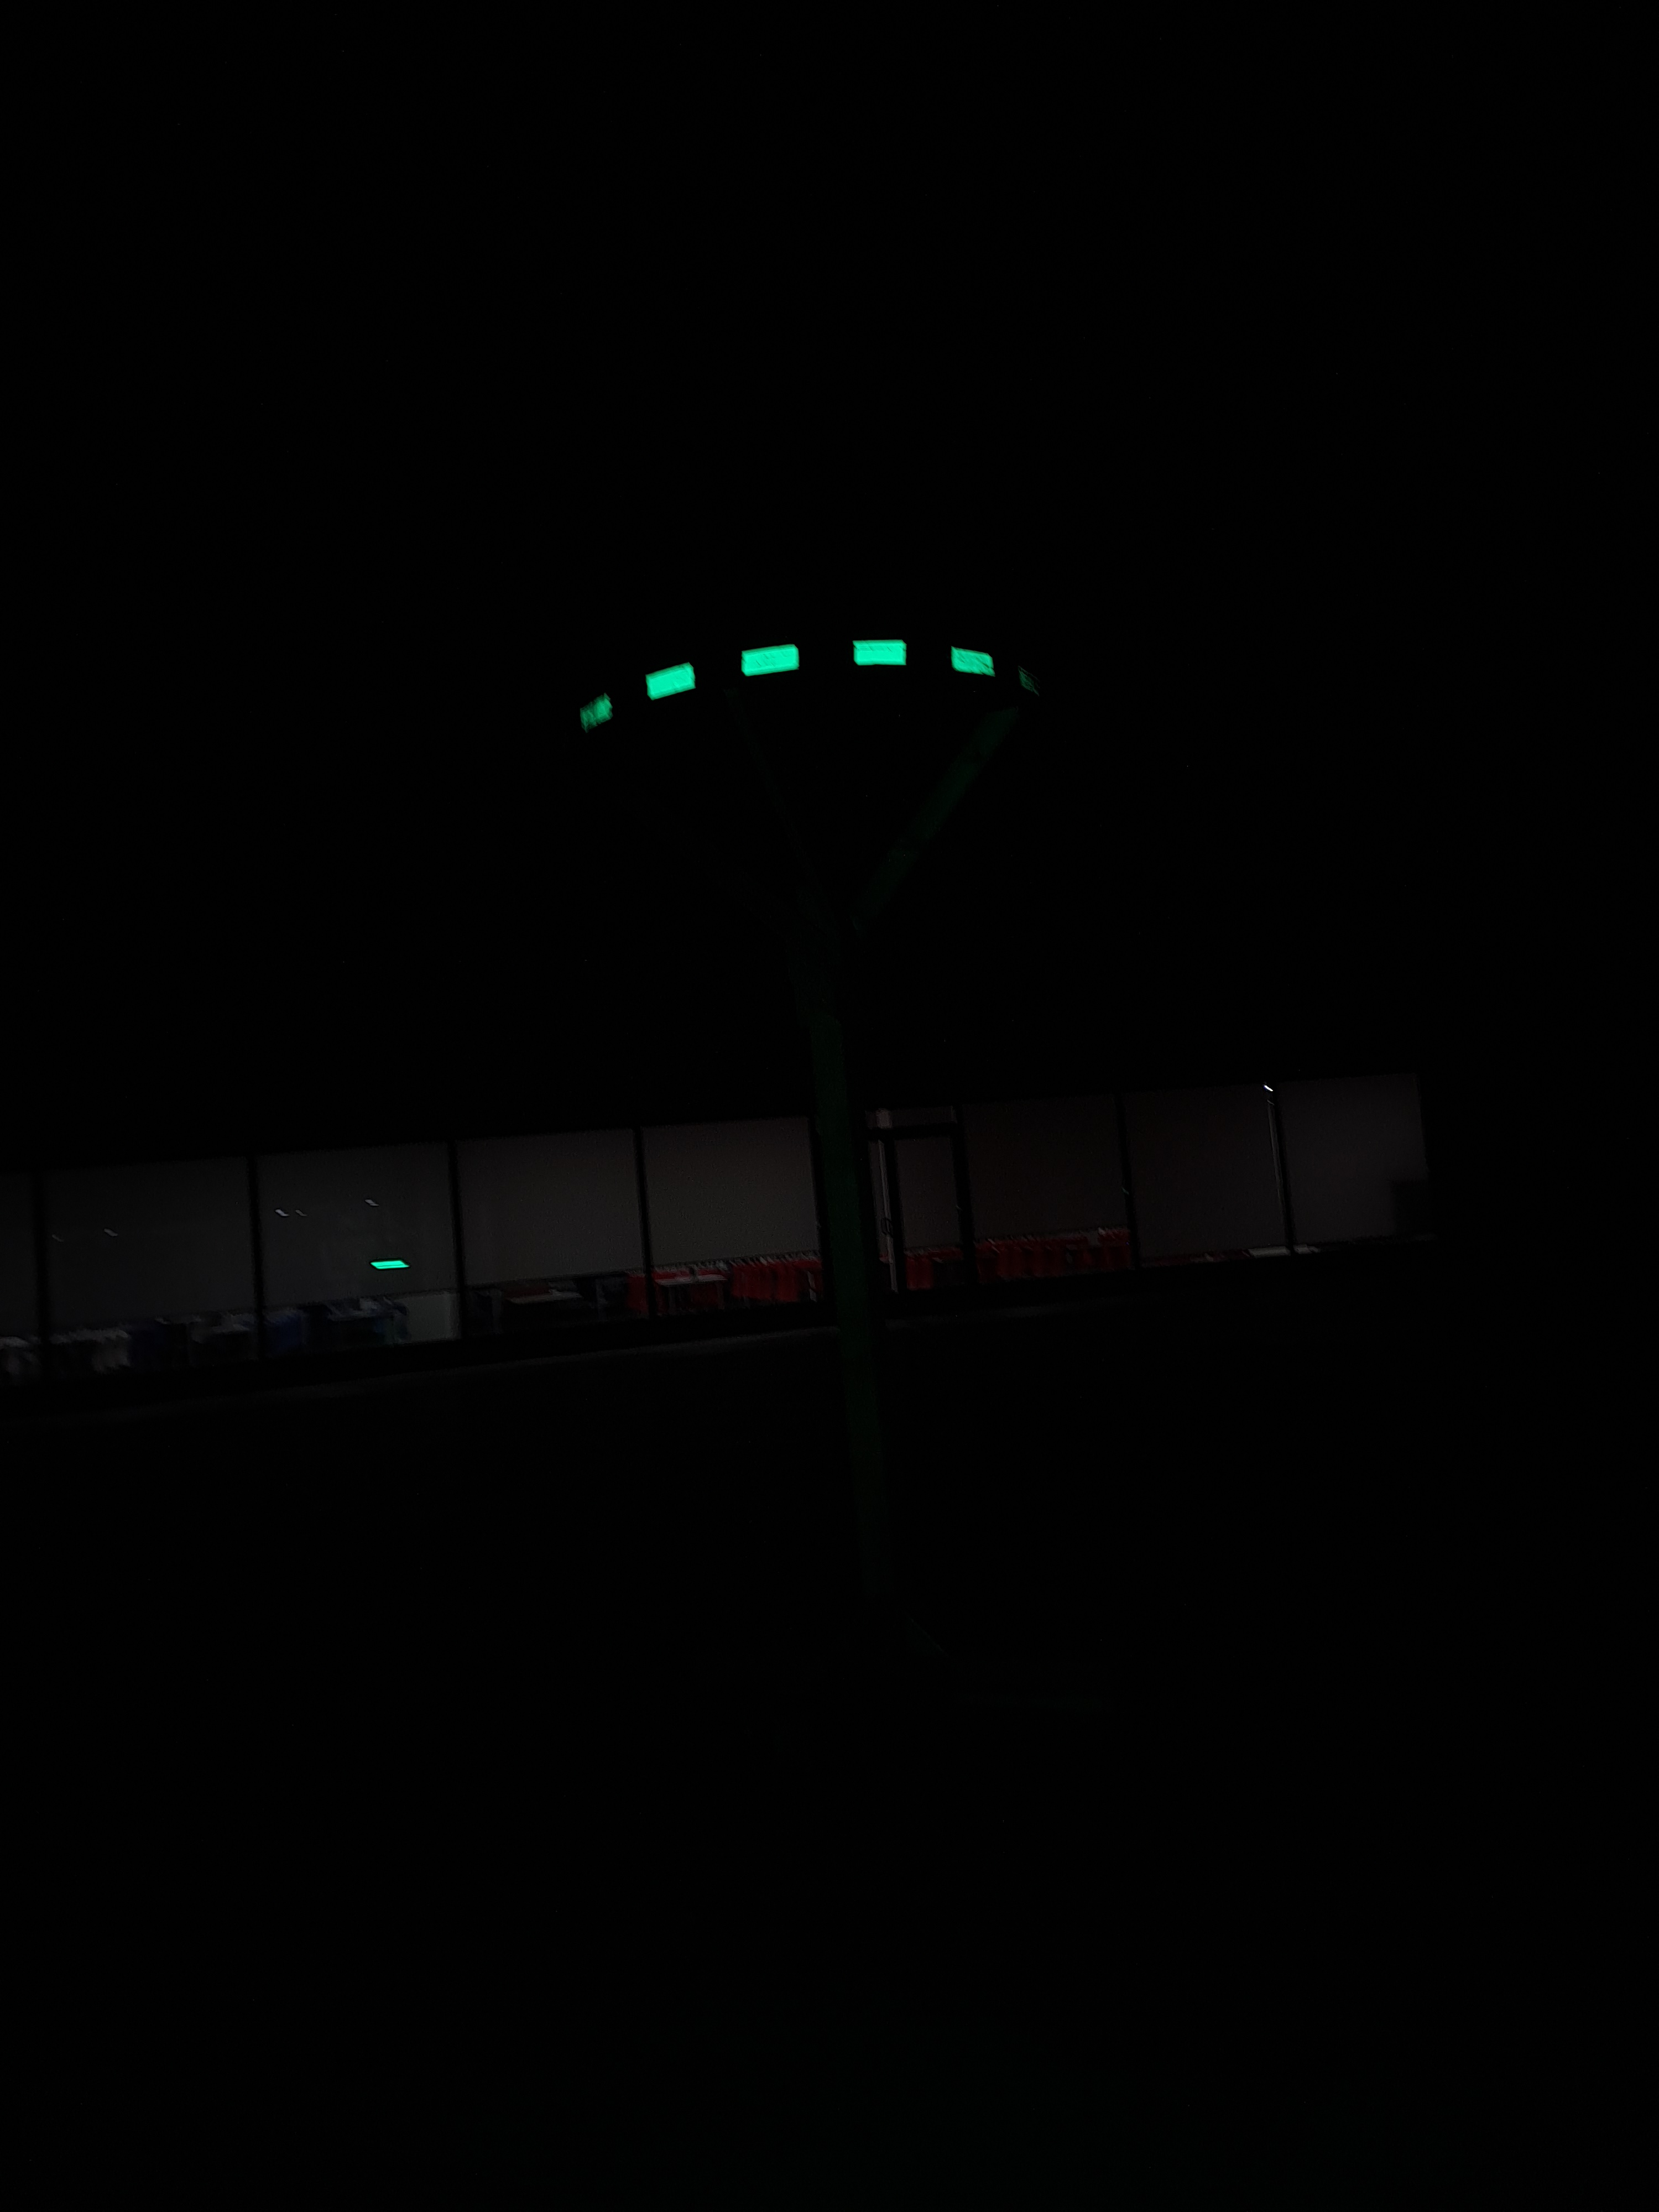hoop: (575, 639, 1006, 733)
